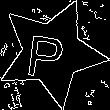P_N: (30, 26, 73, 80)
